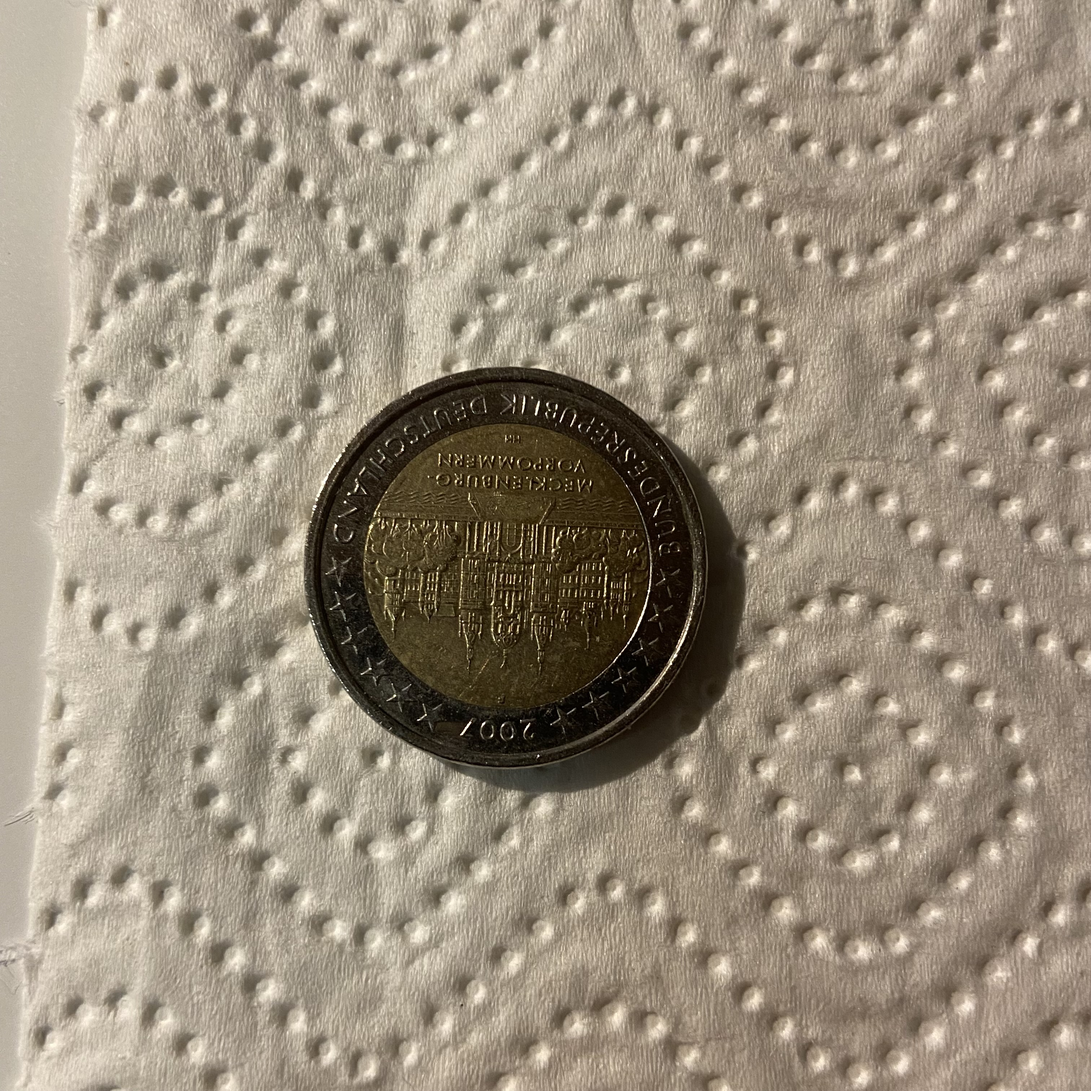2 euro: (303, 358, 714, 787)
